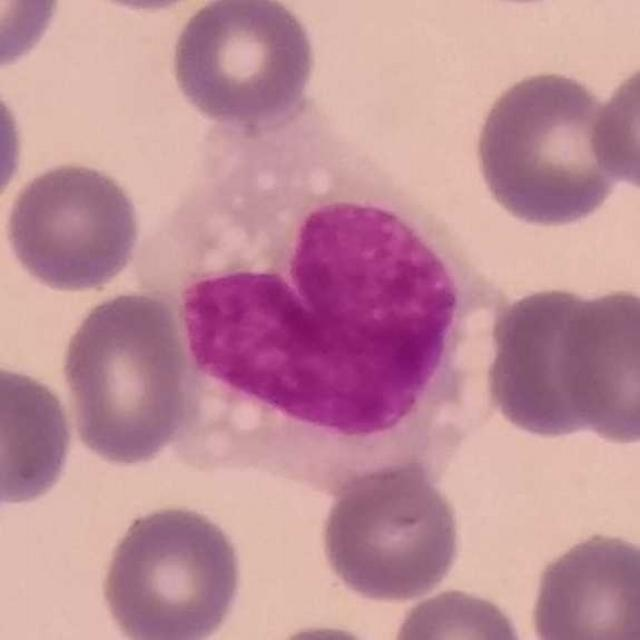mono: (132, 95, 514, 504)
